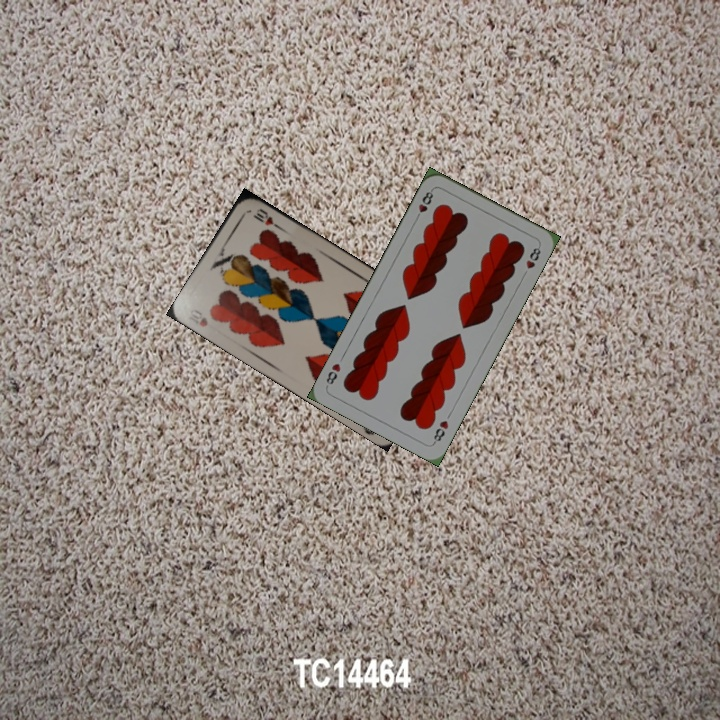H10: (185, 305, 211, 329)
H8: (411, 185, 436, 223), (429, 416, 451, 446)
